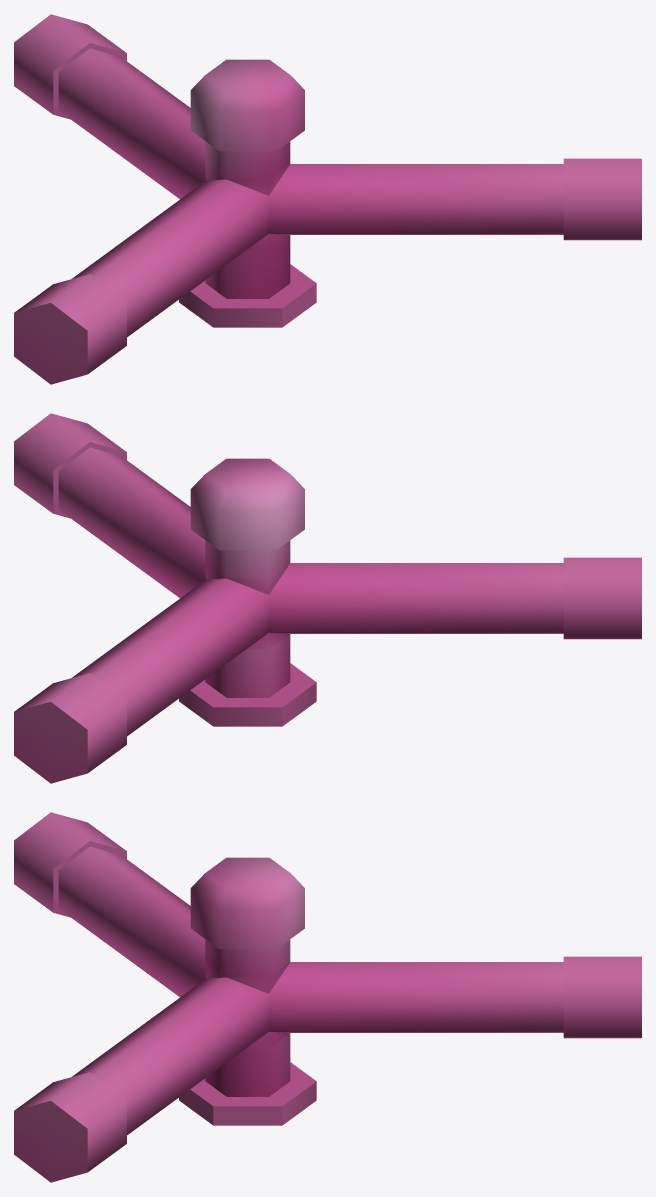
Rendered from squidgame_props_obstacle2_pink.fbx.
The picture shows the model from 3 angles, top to bottom: view 1: azimuth 30°, elevation 25°; view 2: azimuth 150°, elevation 25°; view 3: azimuth 270°, elevation 25°; orthographic projection.
Parts seen in each view (by area): view 1: squidgame_props_obstacle2_pink; view 2: squidgame_props_obstacle2_pink; view 3: squidgame_props_obstacle2_pink.
Boxes of the visible parts, x1,y1,x2,y2 form: squidgame_props_obstacle2_pink: (14,14,641,384); squidgame_props_obstacle2_pink: (14,413,641,783); squidgame_props_obstacle2_pink: (14,812,641,1182).
Size of the model in its own units: 5.75 by 1.99 by 4.98.
